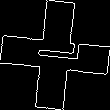L_W: (28, 37, 82, 73)
